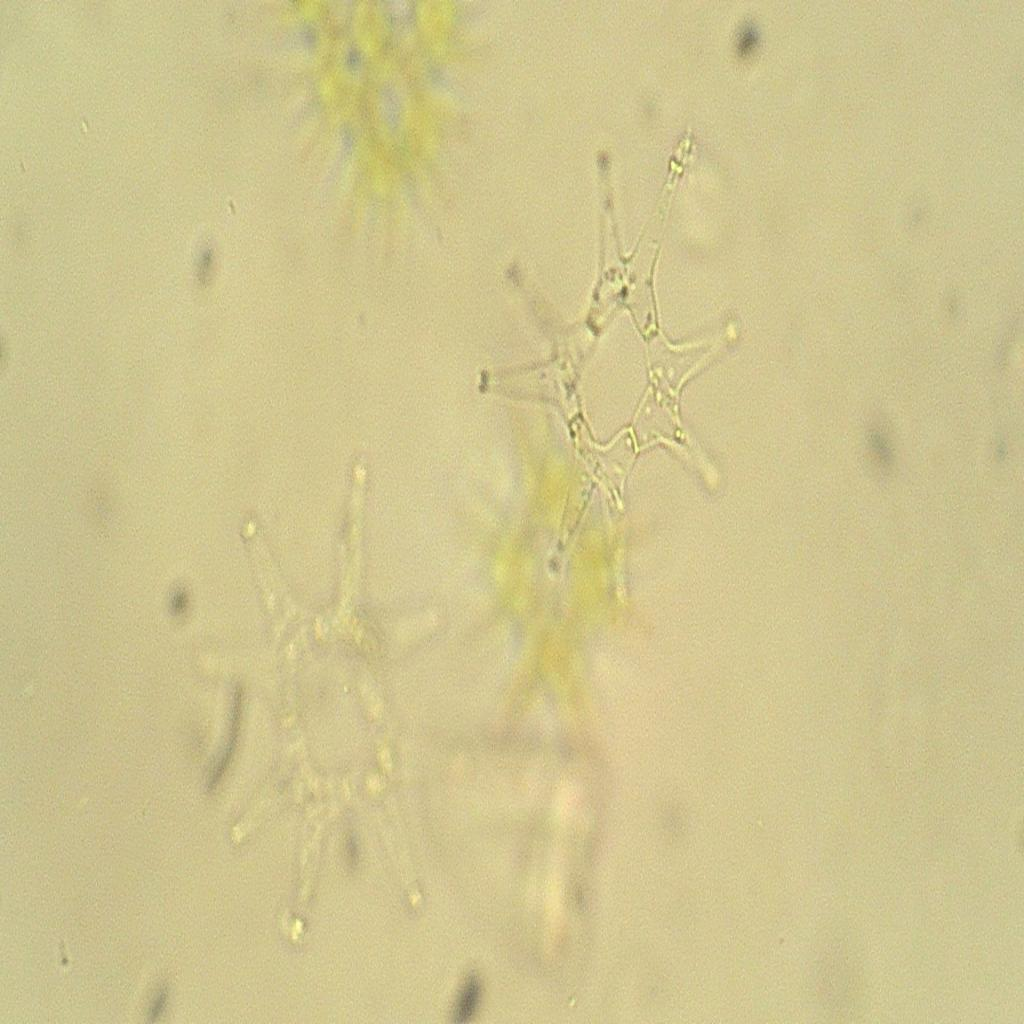Pediastrum_1F0: (475, 106, 755, 630)
